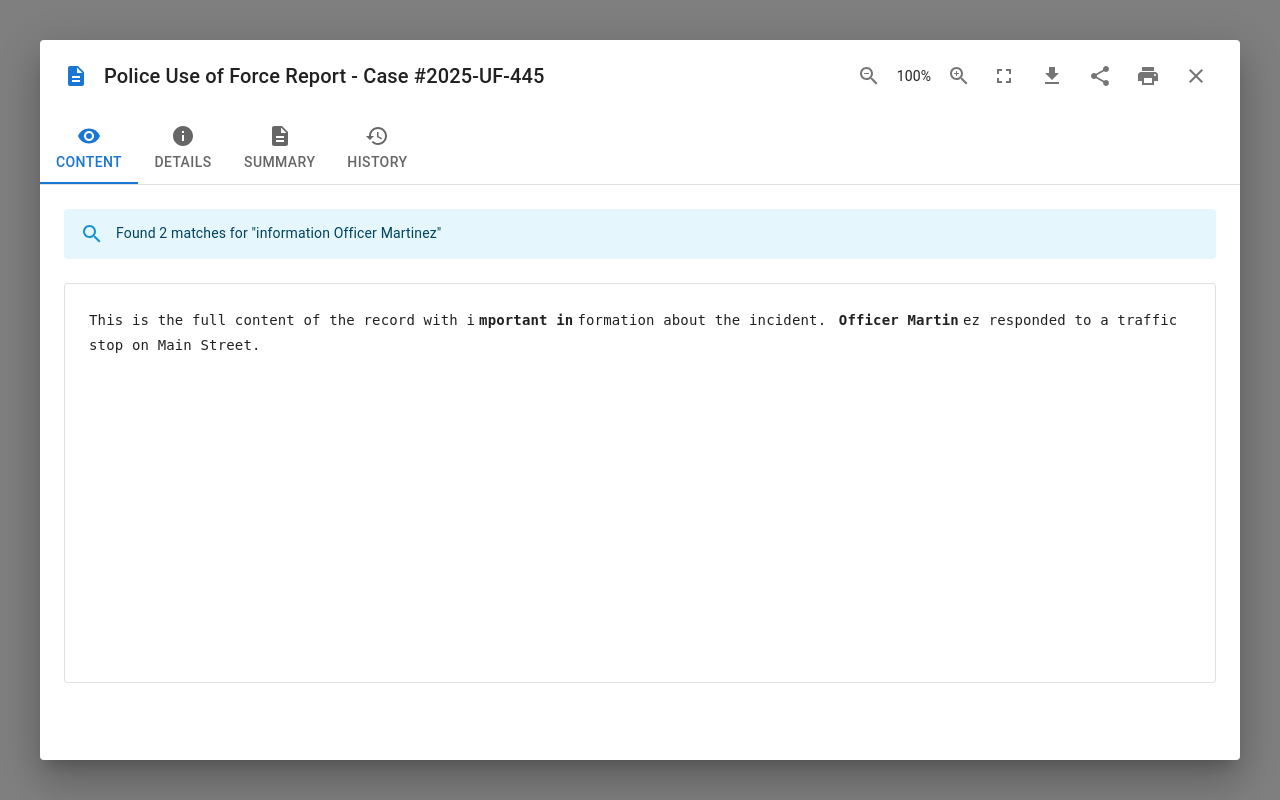
RecordPreviewPanel › switches between tabs correctly
This screenshot has width=1280, height=800.
Expected: the heading "Police Use of Force Report - Case #2025-UF-445" is shown, [104,64,545,88]
# Click on Details tab
Click the tab "Details" at [183, 148], box [138,112,228,184]
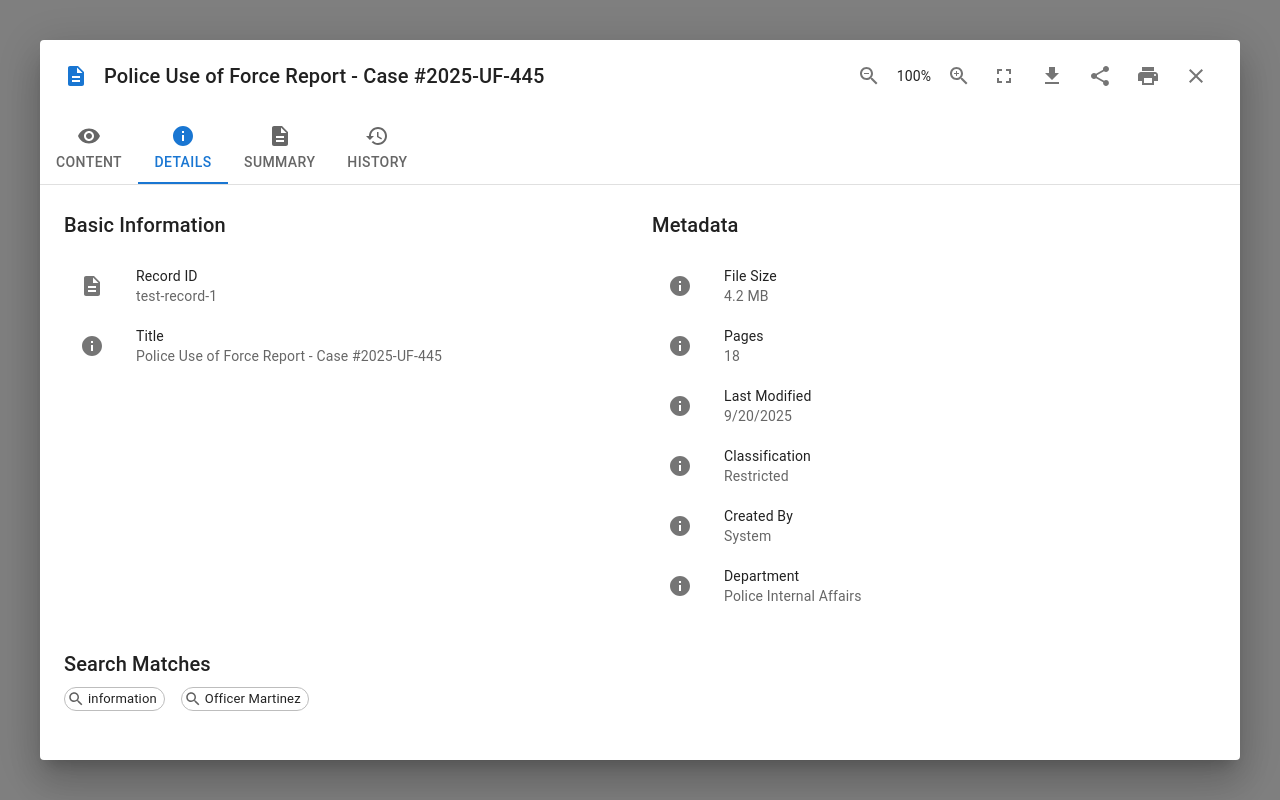
Result: the heading "Basic Information" is shown at [64,213,226,237]
Result: the heading "Metadata" is shown at [652,213,739,237]
Result: the text "Record ID" is shown at [136,268,198,284]
